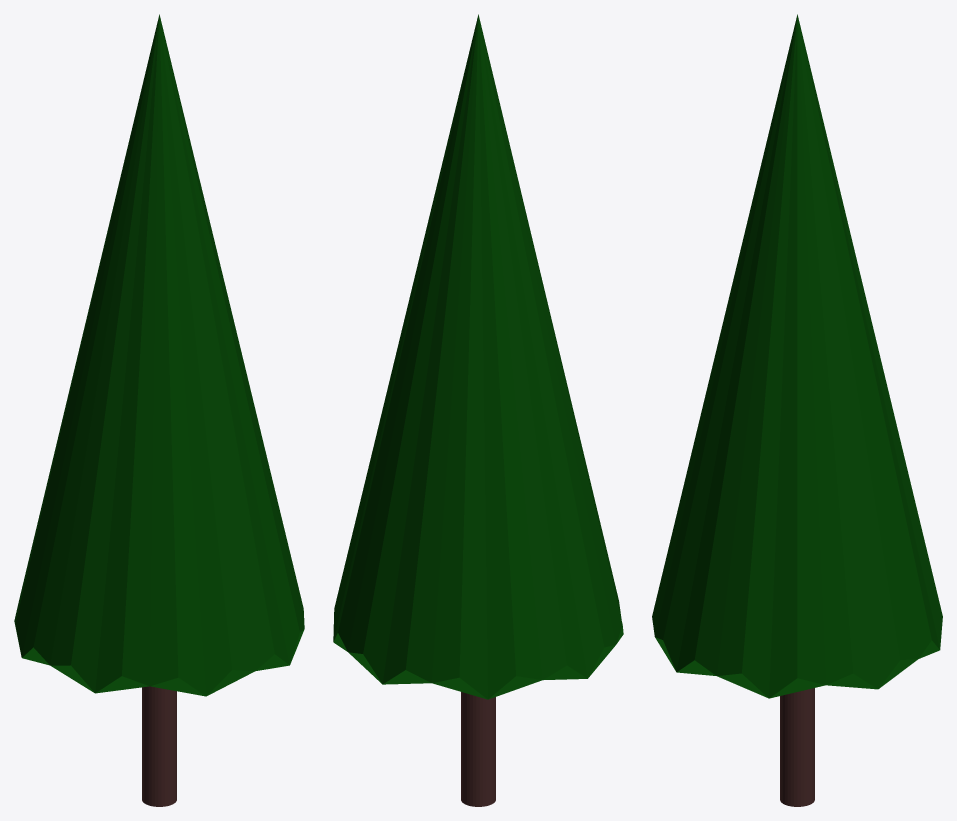
File: fir_6.glb
3 views of the same model, side by side, from view 1: azimuth 30°, elevation 25°; view 2: azimuth 150°, elevation 25°; view 3: azimuth 270°, elevation 25° (orthographic).
Visible parts, largest first — view 1: Cone, Cylinder; view 2: Cone, Cylinder; view 3: Cone, Cylinder.
Part boxes in pixels (x1,y1,x2,y2): Cone: (14, 14, 304, 696); Cylinder: (142, 686, 176, 806); Cone: (333, 14, 623, 699); Cylinder: (461, 692, 495, 806); Cone: (652, 14, 942, 698); Cylinder: (780, 688, 814, 806).
Size of the model in its own units: 1.66 by 4.94 by 1.66.
